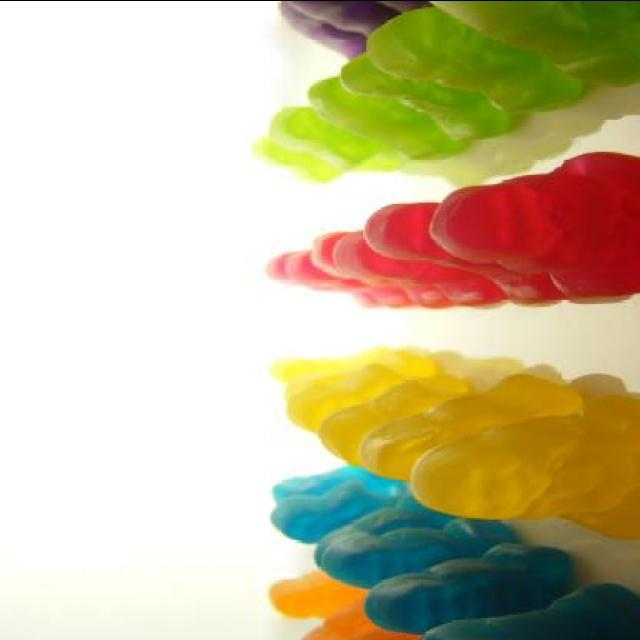Candy: (407, 397, 640, 541), (429, 150, 640, 294), (353, 369, 589, 483), (363, 2, 585, 112), (364, 199, 567, 307), (363, 541, 566, 634), (428, 2, 638, 86), (334, 52, 518, 140), (315, 378, 473, 468), (300, 76, 469, 160), (327, 228, 504, 308), (419, 578, 639, 640), (321, 520, 513, 588), (284, 354, 432, 434), (308, 233, 446, 305), (266, 484, 412, 547), (264, 248, 413, 306), (274, 0, 420, 59), (268, 104, 402, 168), (251, 134, 398, 188), (266, 566, 364, 622), (297, 598, 421, 640), (267, 467, 383, 502)
